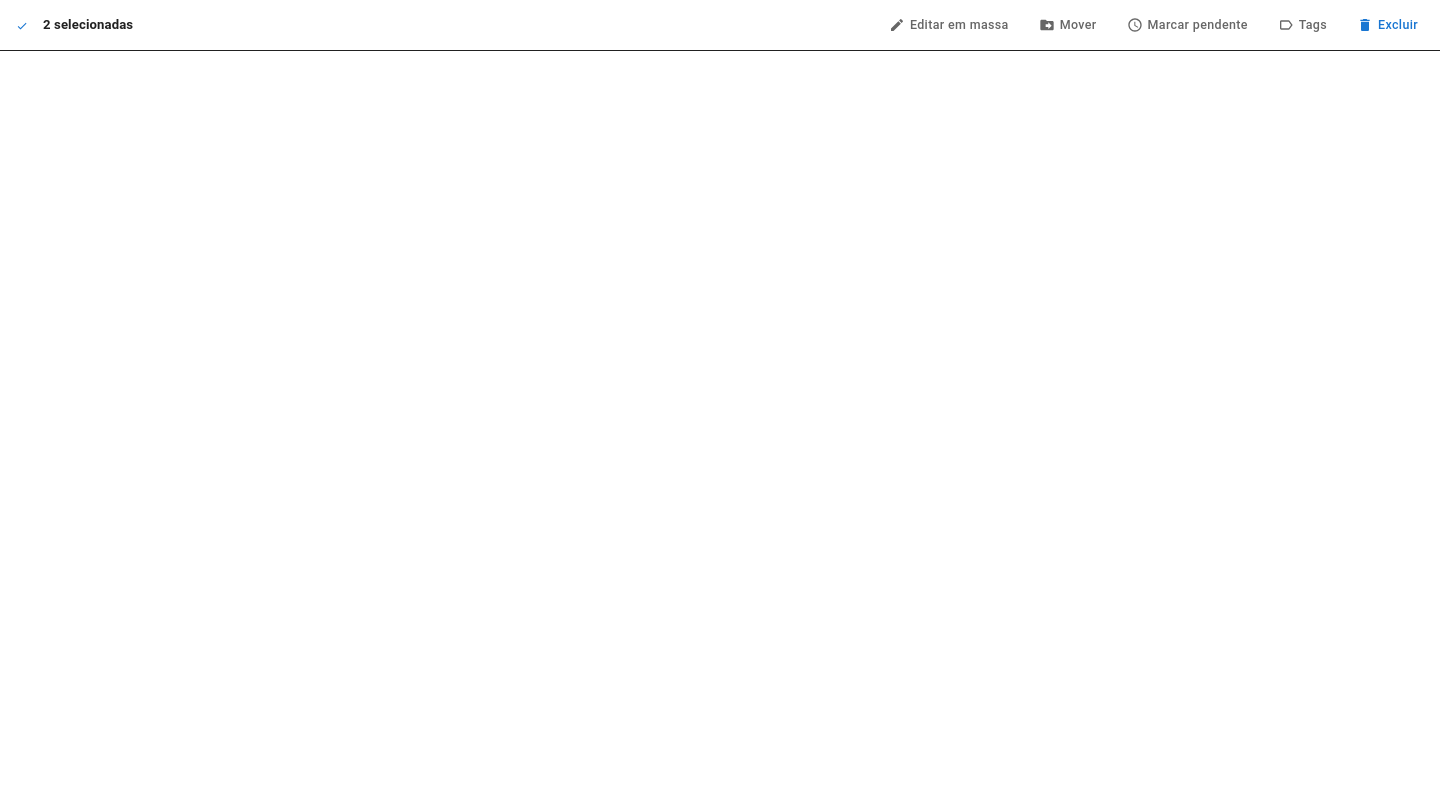
Test: BulkActionBar › Tags: remover abre o diálogo, carrega as tags da conta e mantém a ação disponível
Step 1. Click the button "Tags" → (1302, 25), box 1270,10 -> 1335,40
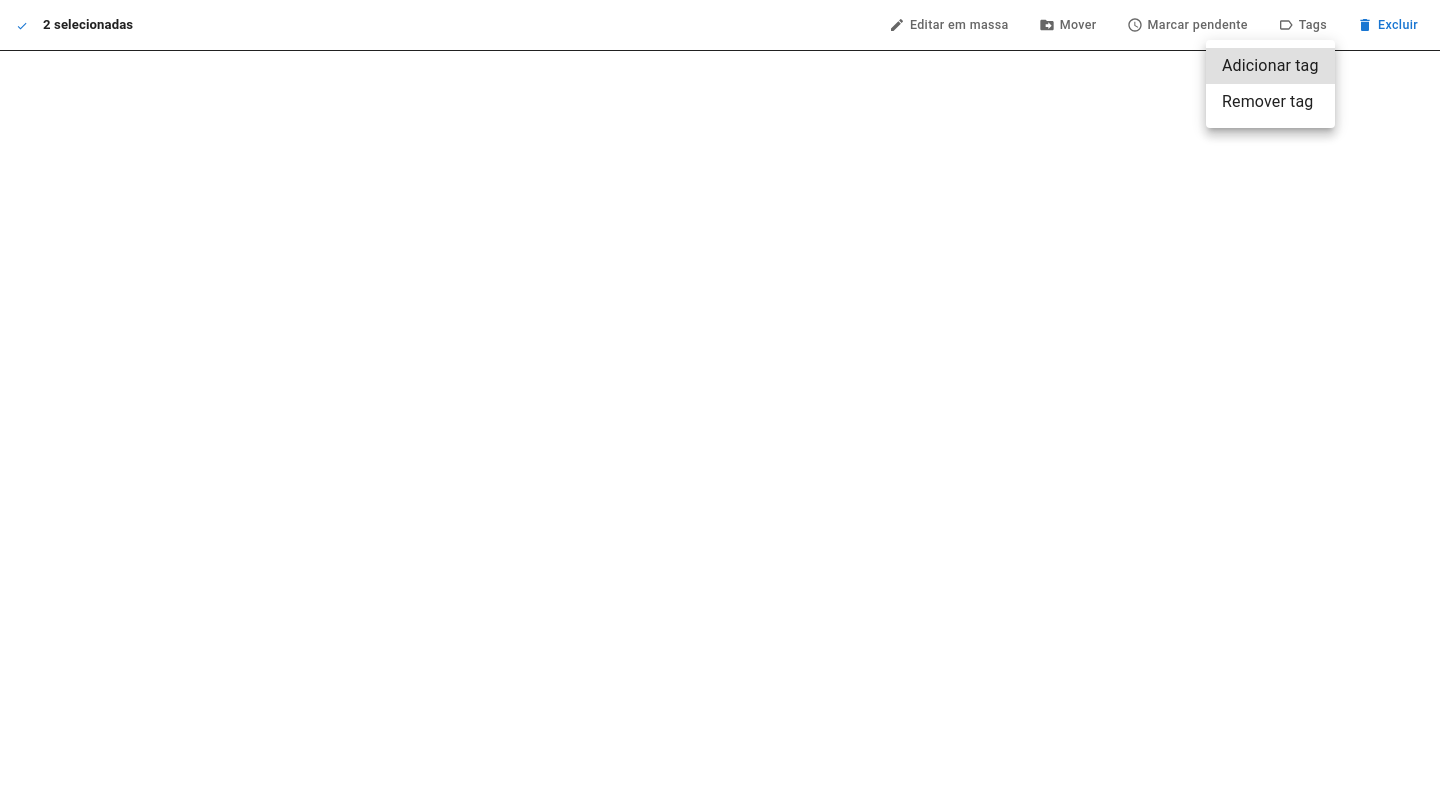
Step 2. Click the menu item "Remover tag" → (1268, 102), box 1222,92 -> 1314,111
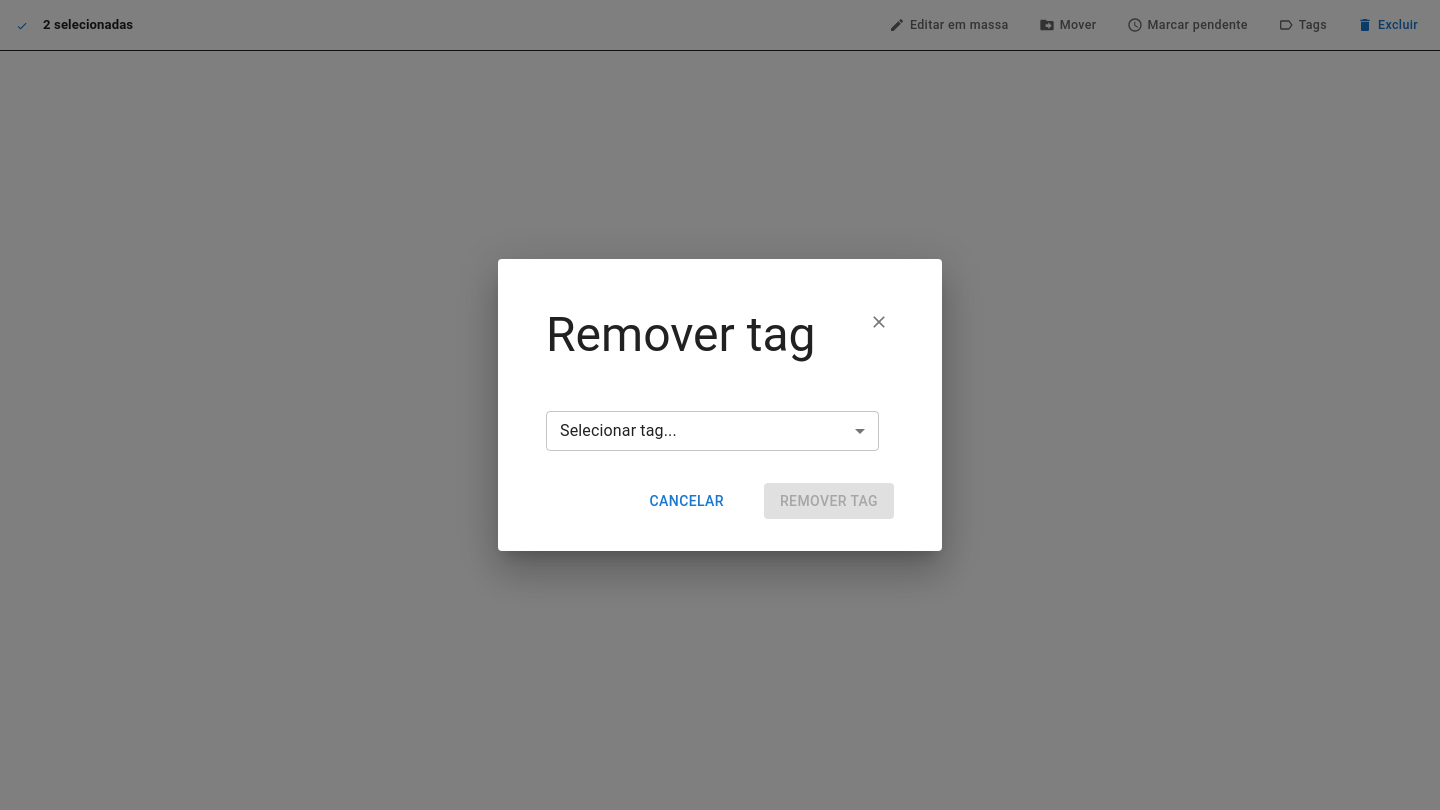
Check: the button "Remover tag" is shown, box 764,483 -> 894,519
